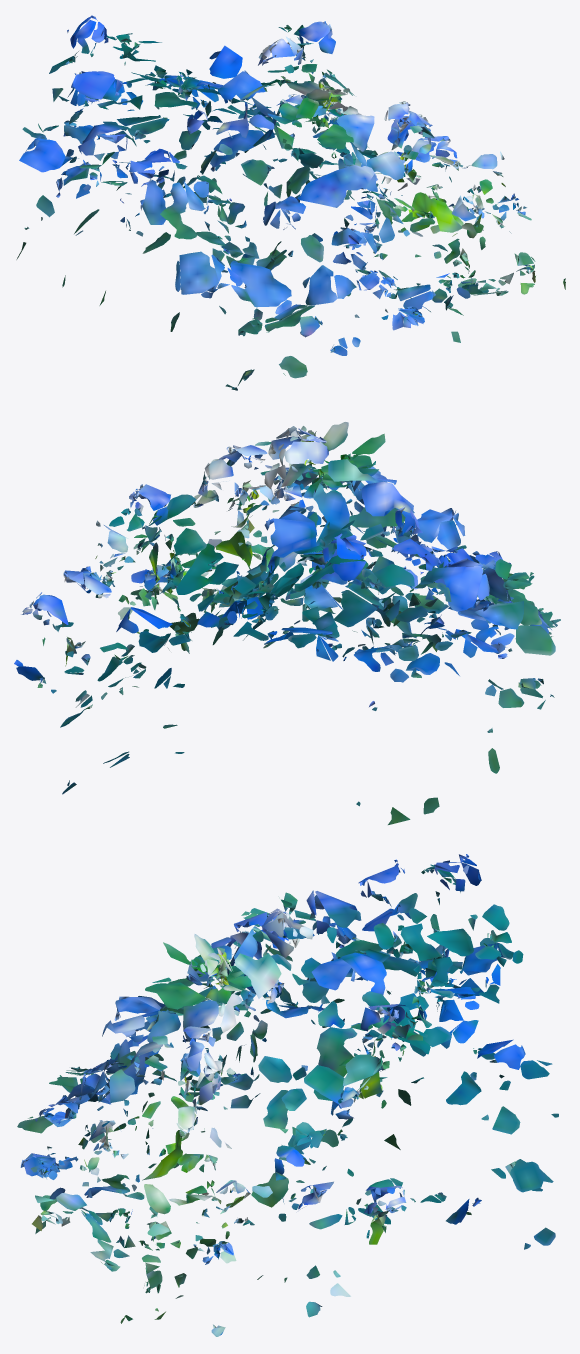
The model's file is hydrangea.obj.
3 renders of one model, top to bottom at view 1: azimuth 30°, elevation 25°; view 2: azimuth 150°, elevation 25°; view 3: azimuth 270°, elevation 25°, orthographic. The views are drawn at different scales.
Bounding box in the file's own units: 5.58 × 3.25 × 5.2.
1 material, 1 textured.
